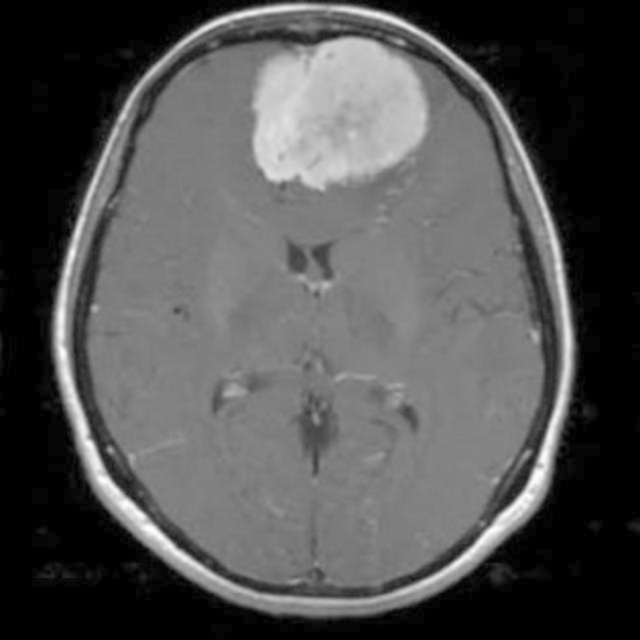meningioma tumor: (228, 32, 447, 203)
